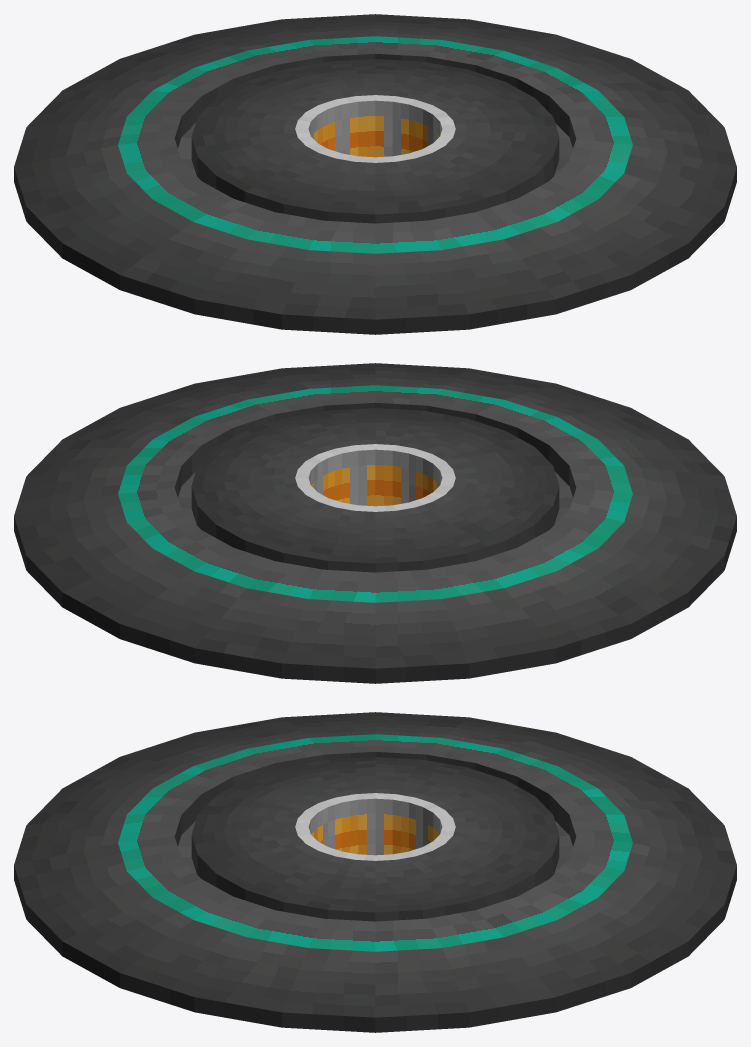
File: flying_wheel_1.obj
3 renders of one model, top to bottom at view 1: azimuth 30°, elevation 25°; view 2: azimuth 150°, elevation 25°; view 3: azimuth 270°, elevation 25°, orthographic.
Visible parts, largest first — view 1: flywheel; view 2: flywheel; view 3: flywheel.
Part boxes in pixels (x1,y1,x2,y2): flywheel: [14, 14, 736, 334]; flywheel: [14, 363, 736, 683]; flywheel: [14, 712, 736, 1032].
Bounding box in the file's own units: 2.7 × 0.375 × 2.7.
